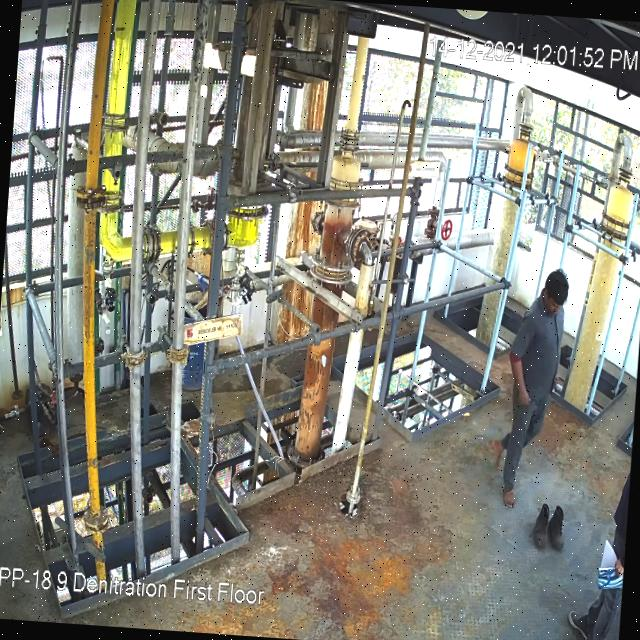boots: (544, 501, 571, 559), (527, 501, 551, 549)
no-boots: (498, 478, 518, 508)
